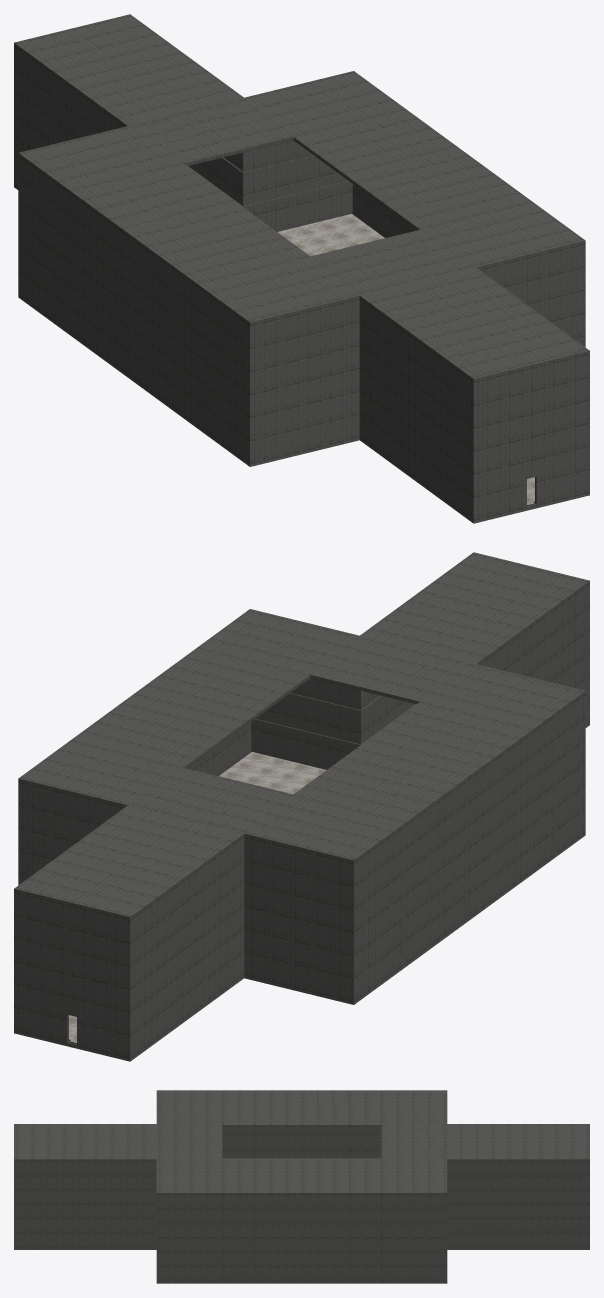
File: chamber3.gltf
3 renders of one model, top to bottom at view 1: azimuth 30°, elevation 25°; view 2: azimuth 150°, elevation 25°; view 3: azimuth 270°, elevation 25°, orthographic. The views are drawn at different scales.
Parts seen in each view (by area): view 1: chamber_3; view 2: chamber_3; view 3: chamber_3.
Boxes of the visible parts, x1,y1,x2,y2 form: chamber_3: (14, 14, 589, 523); chamber_3: (14, 552, 589, 1061); chamber_3: (14, 1090, 589, 1283).
Size of the model in its own units: 5.1 by 2.1 by 12.1.
